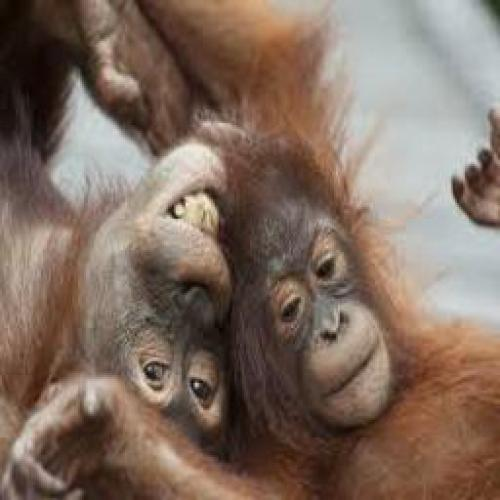orangutan-endangered: (8, 10, 495, 492), (11, 11, 234, 448)
